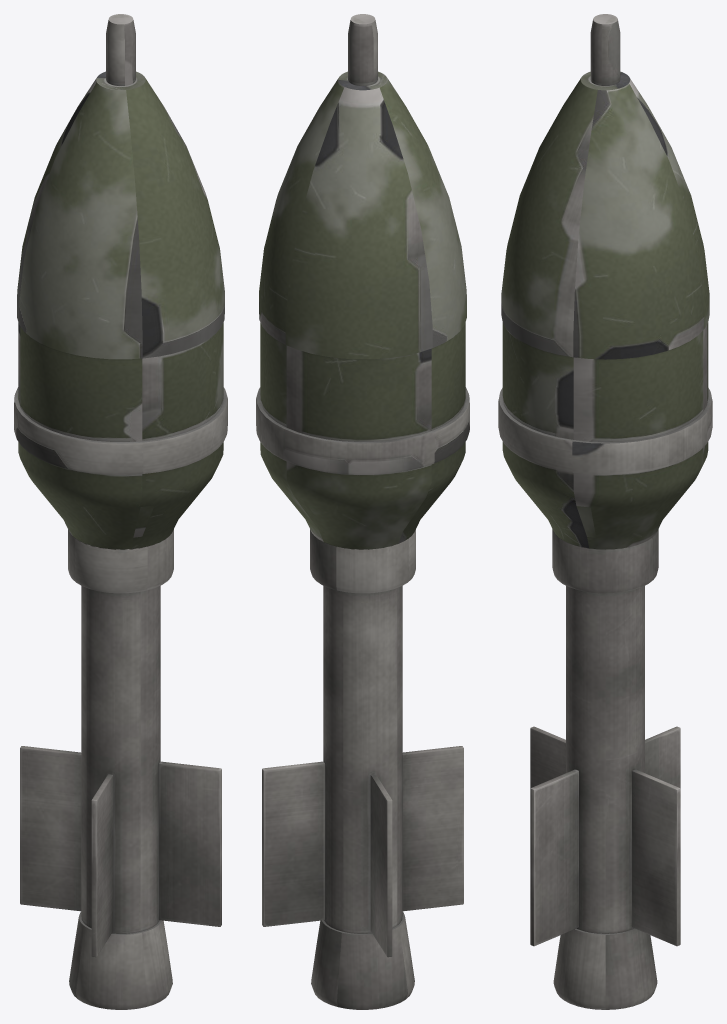
The model's file is rocket_round.glb.
3 renders of one model, left to right at view 1: azimuth 30°, elevation 25°; view 2: azimuth 150°, elevation 25°; view 3: azimuth 270°, elevation 25°, orthographic.
Parts seen in each view (by area): view 1: warhead, motor; view 2: warhead, motor; view 3: warhead, motor.
Part boxes in pixels (box(x1,y1,x2,y2)): warhead: box(14, 14, 227, 549); motor: box(20, 529, 221, 1009); warhead: box(256, 14, 469, 549); motor: box(262, 529, 463, 1009); warhead: box(498, 14, 712, 549); motor: box(530, 529, 680, 1009).
Size of the model in its own units: 0.0864 by 0.433 by 0.0864.
1 material, 1 textured.
